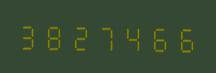eight: (43, 18, 68, 52)
four: (121, 20, 146, 53)
seven: (95, 19, 120, 53)
six: (147, 20, 172, 54), (173, 21, 198, 54)
three: (17, 18, 42, 51)
two: (69, 19, 94, 52)
